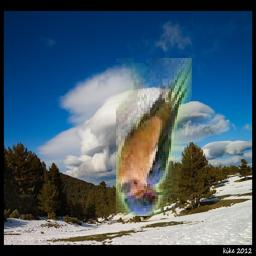Swallow: (116, 58, 192, 216)
